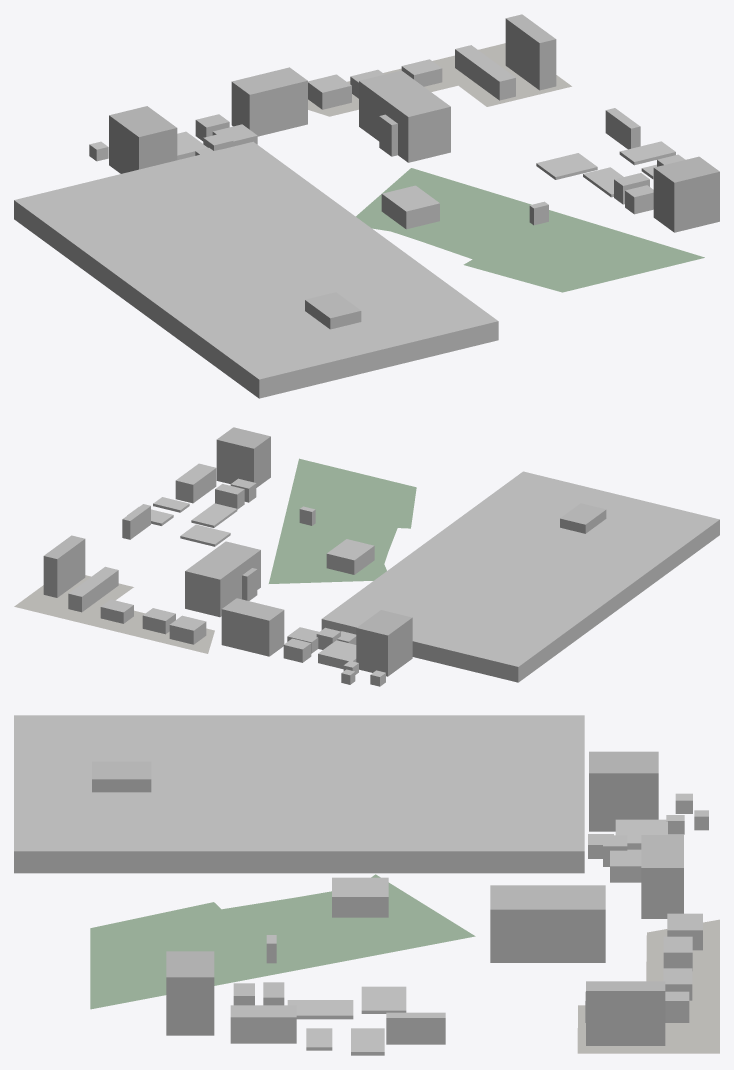
Rendered from 112_77_mid.glb.
3 renders of one model, top to bottom at view 1: azimuth 30°, elevation 25°; view 2: azimuth 150°, elevation 25°; view 3: azimuth 270°, elevation 25°, orthographic. The views are drawn at different scales.
Bounding box in the file's own units: 599 × 52.47 × 560.
